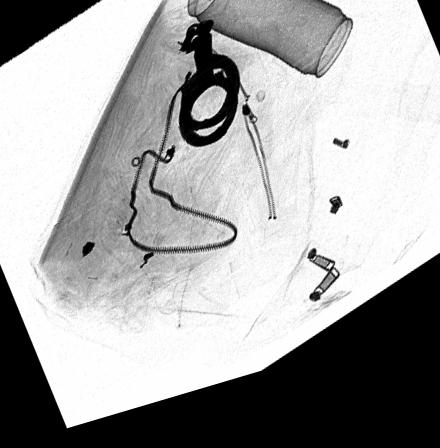HandCuffs: (177, 29, 242, 161)
